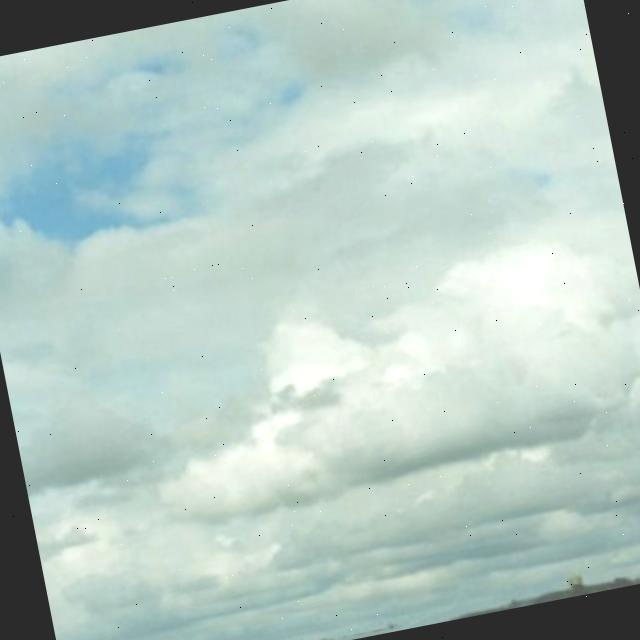Sc: (1, 38, 640, 621)
